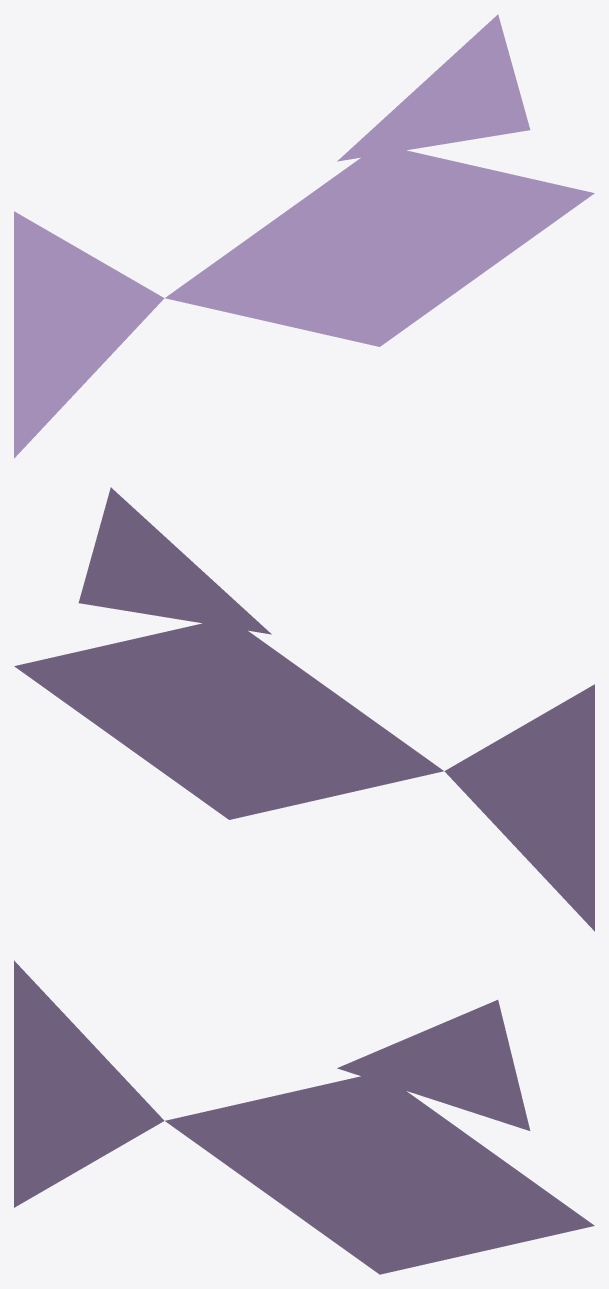
File: base-cleaner.gltf
3 renders of one model, top to bottom at view 1: azimuth 30°, elevation 25°; view 2: azimuth 150°, elevation 25°; view 3: azimuth 330°, elevation 25°, orthographic.
Visible parts, largest first — view 1: base-cleaner; view 2: base-cleaner; view 3: base-cleaner.
Part boxes in pixels (x1,y1,x2,y2): base-cleaner: [14, 14, 594, 458]; base-cleaner: [14, 487, 594, 931]; base-cleaner: [14, 960, 594, 1274].
Size of the model in its own units: 2.7 by 1.45 by 0.
